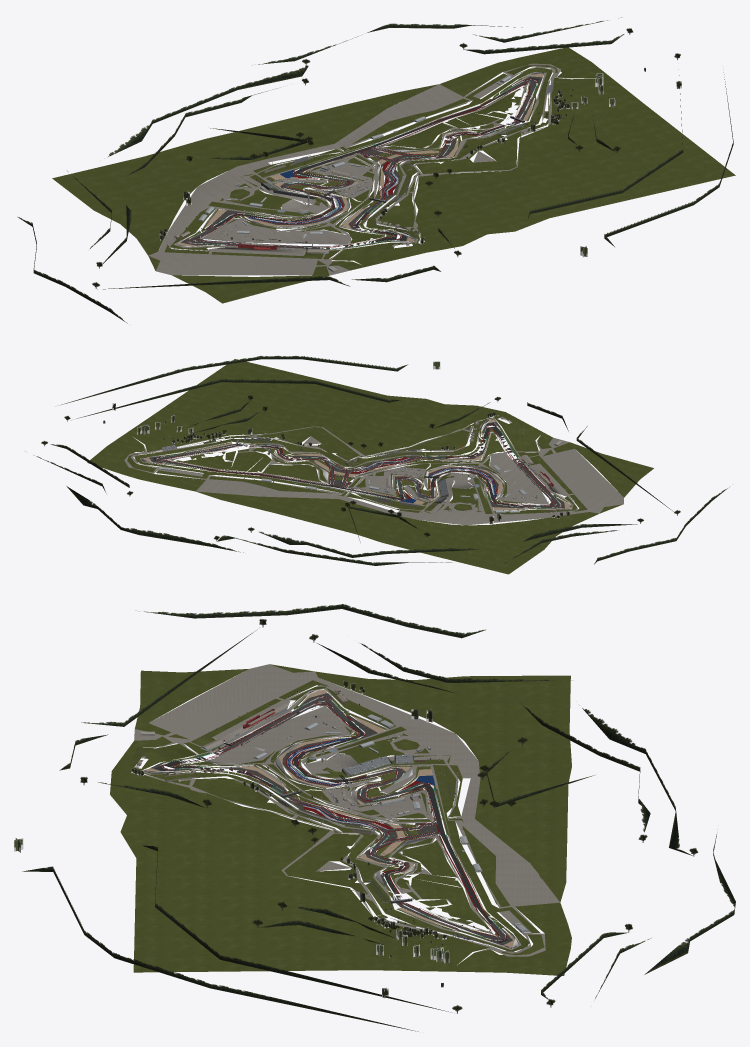
Rendered from austin-low.glb.
The picture shows the model from 3 angles, top to bottom: view 1: azimuth 30°, elevation 25°; view 2: azimuth 150°, elevation 25°; view 3: azimuth 270°, elevation 25°; orthographic projection. The views are drawn at different scales.
Visible parts, largest first — view 1: austin; view 2: austin; view 3: austin.
Part boxes in pixels (left/top/right/bottom): austin: left=18, top=17, right=735, bottom=323; austin: left=34, top=355, right=729, bottom=574; austin: left=14, top=604, right=735, bottom=1031.
Size of the model in its own units: 375 by 12.49 by 262.
Materials: 77 (76 with a texture image).
